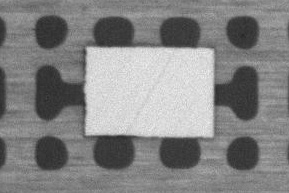DIE_CRACK: (125, 48, 175, 134)
